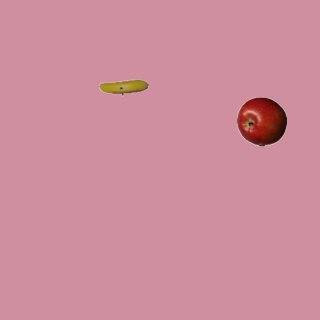Apple Braeburn: (236, 96, 286, 146)
Banana: (98, 62, 148, 112)
